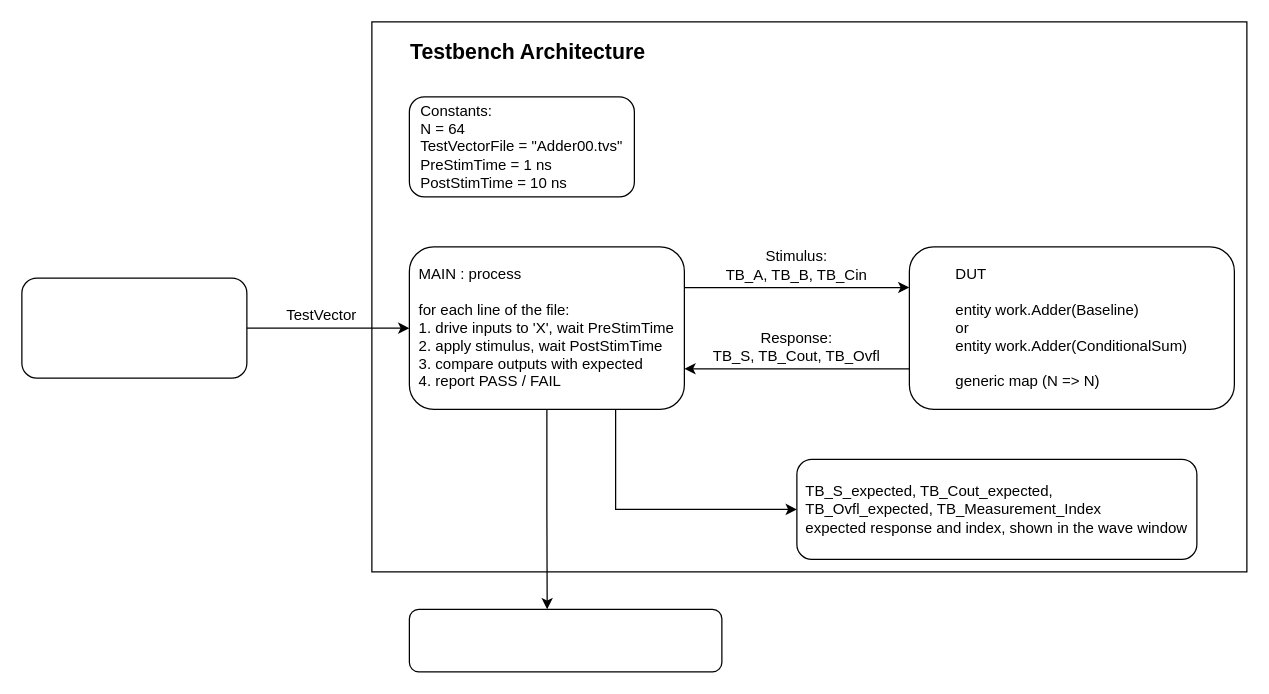
This 1269x694 diagram has some shape labels left out. Each missing label, with the centre of its shape:
"Adder00.tvs one line per measurement: A B Cin S Cout Ovfl" goes at (x=134, y=327).
"Report: Transcript (AdderExperiment_<Topology>.txt)" goes at (x=565, y=640).
